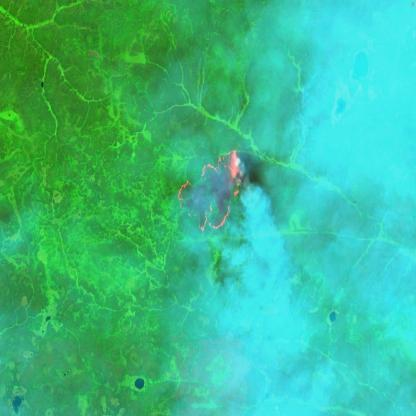fire: (173, 145, 248, 234)
